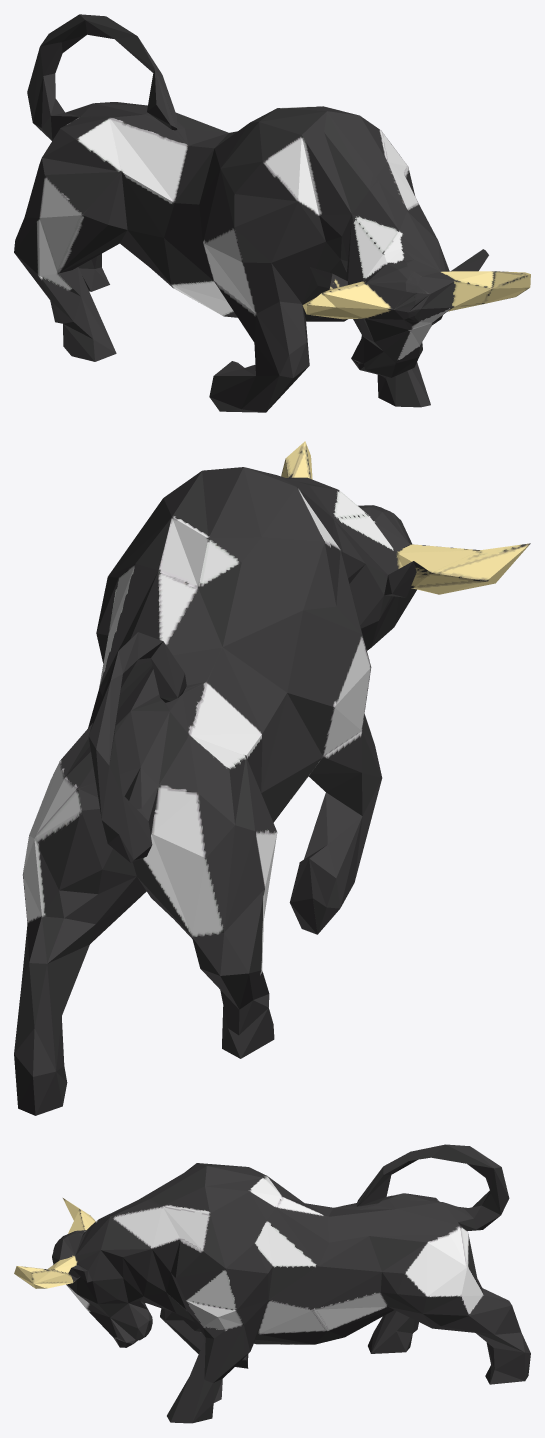
File: Bull_low_poly 1953 (colourized).fbx
3 renders of one model, top to bottom at view 1: azimuth 30°, elevation 25°; view 2: azimuth 150°, elevation 25°; view 3: azimuth 270°, elevation 25°, orthographic. The views are drawn at different scales.
Parts seen in each view (by area): view 1: node_id3; view 2: node_id3; view 3: node_id3.
Part boxes in pixels (x1,y1,x2,y2): node_id3: [14, 14, 530, 412]; node_id3: [14, 441, 530, 1115]; node_id3: [14, 1144, 530, 1423].
Size of the model in its own units: 0.2088 by 0.2468 by 0.4989.
1 material, 1 textured.
